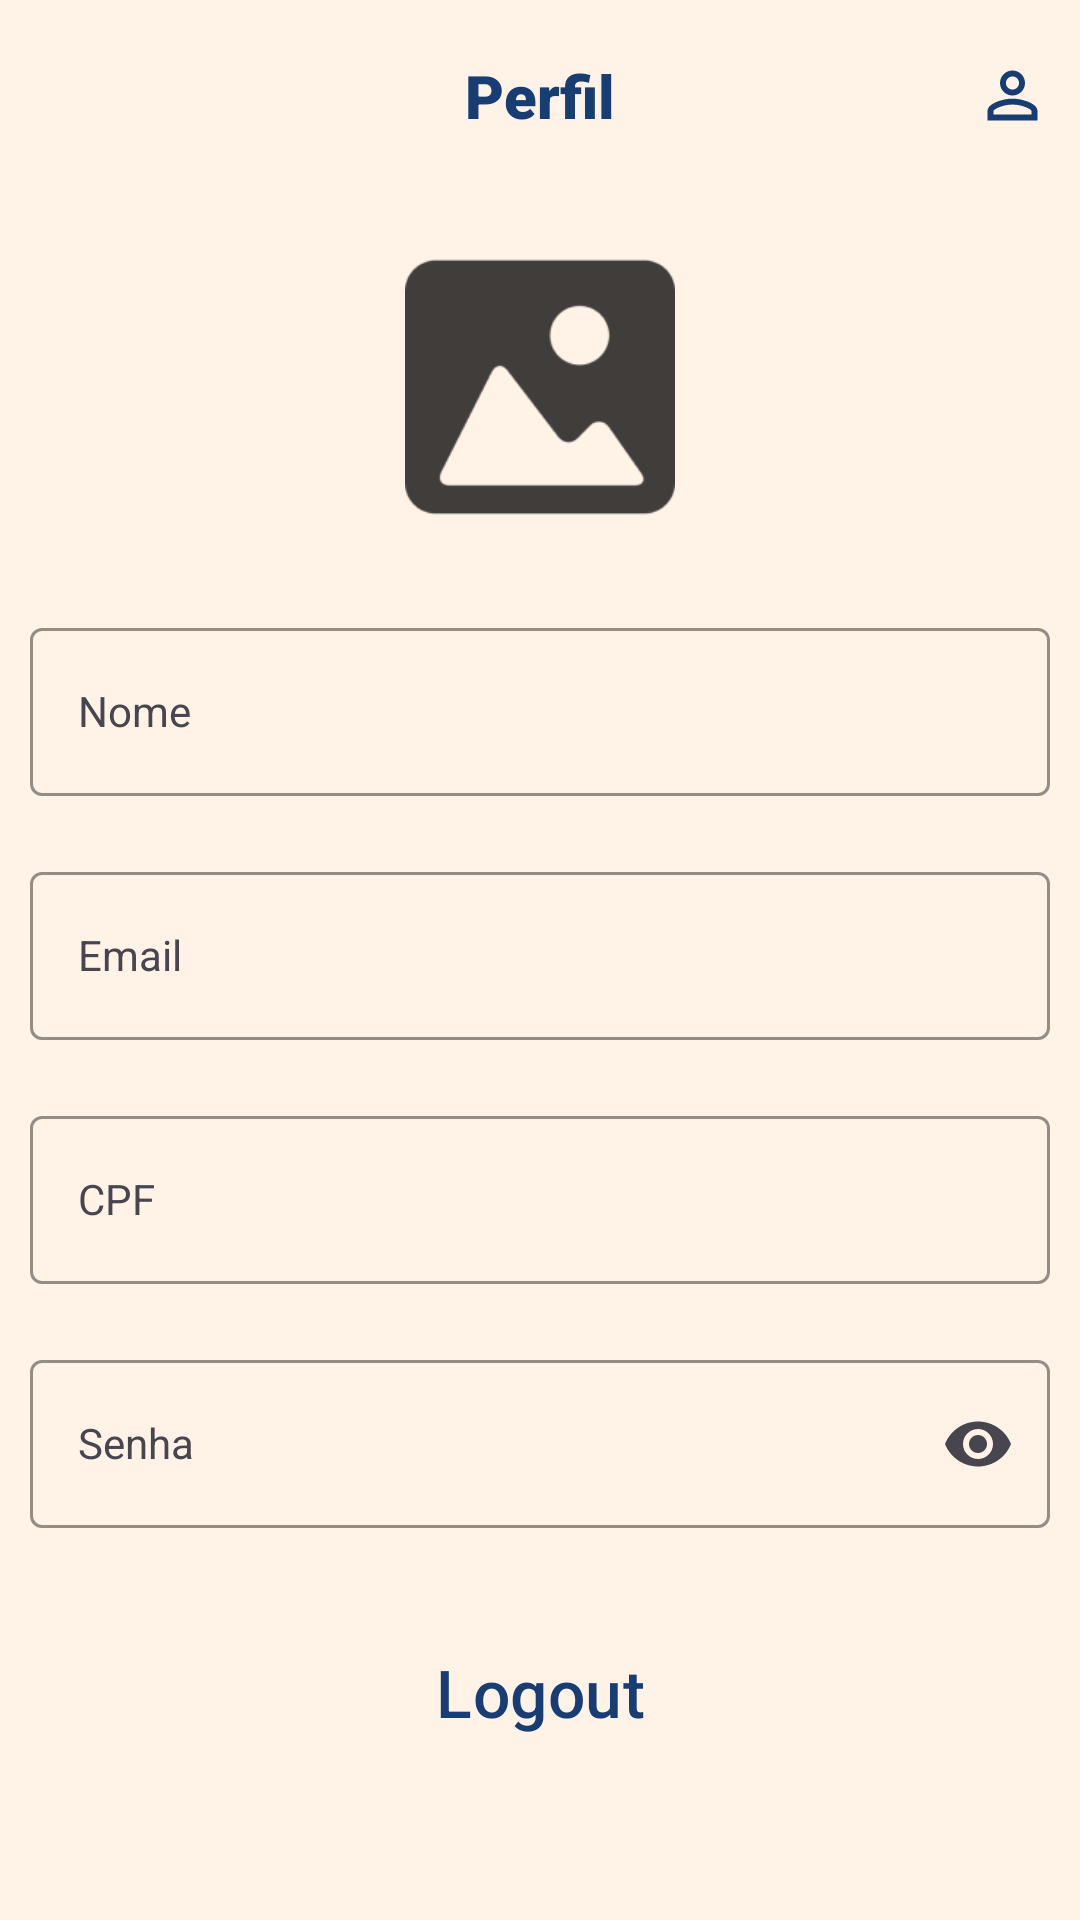

Where icons sit on this 1080w x 1920h app screen, as (left=x1, top=y1, right=x2, bottom=y2):
imagevazia: (left=405, top=259, right=675, bottom=515)
person: (left=987, top=70, right=1038, bottom=121)
